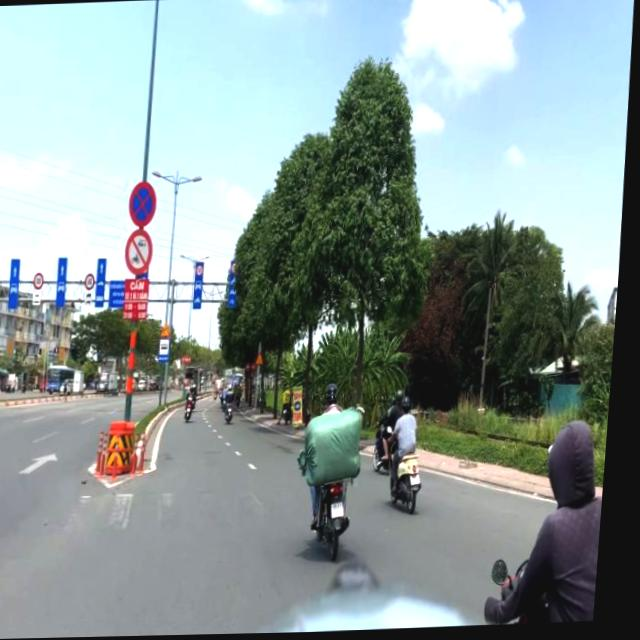Cam dung xe va do xe: (129, 180, 162, 230)
Nguoi di bo cat ngang: (259, 351, 270, 367)
Toc do toi da cho phep: (87, 272, 100, 291), (37, 271, 49, 291)
cho ngoat nguy hiem vong ben phai: (164, 321, 176, 338)
